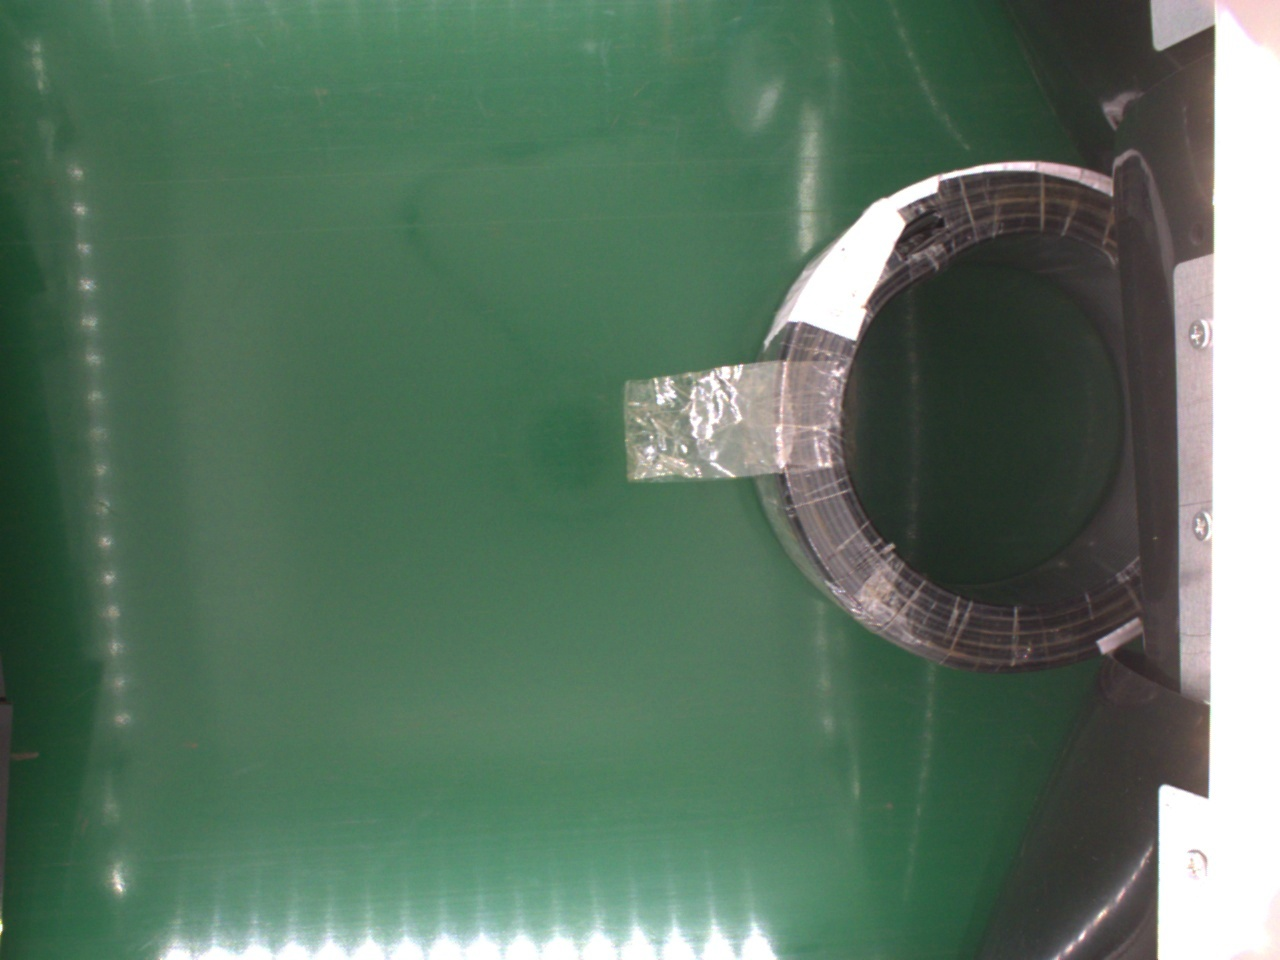black: (747, 160, 1155, 674)
